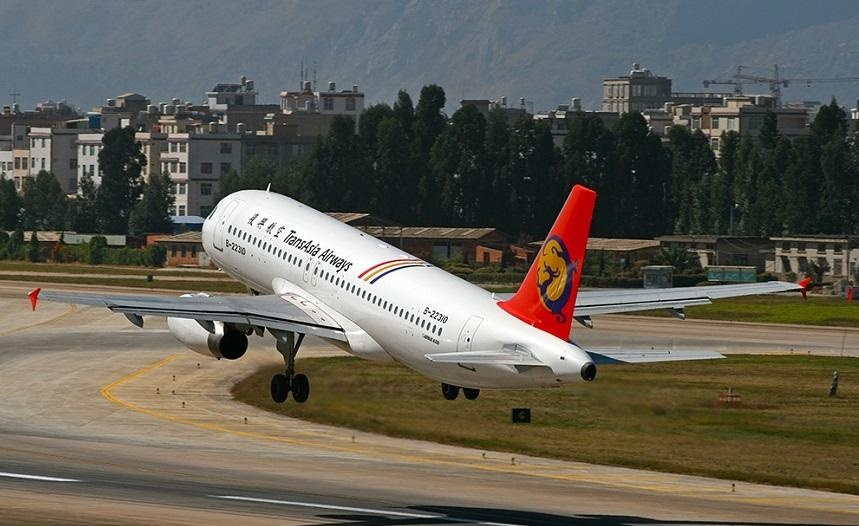airplane: (27, 182, 812, 407)
